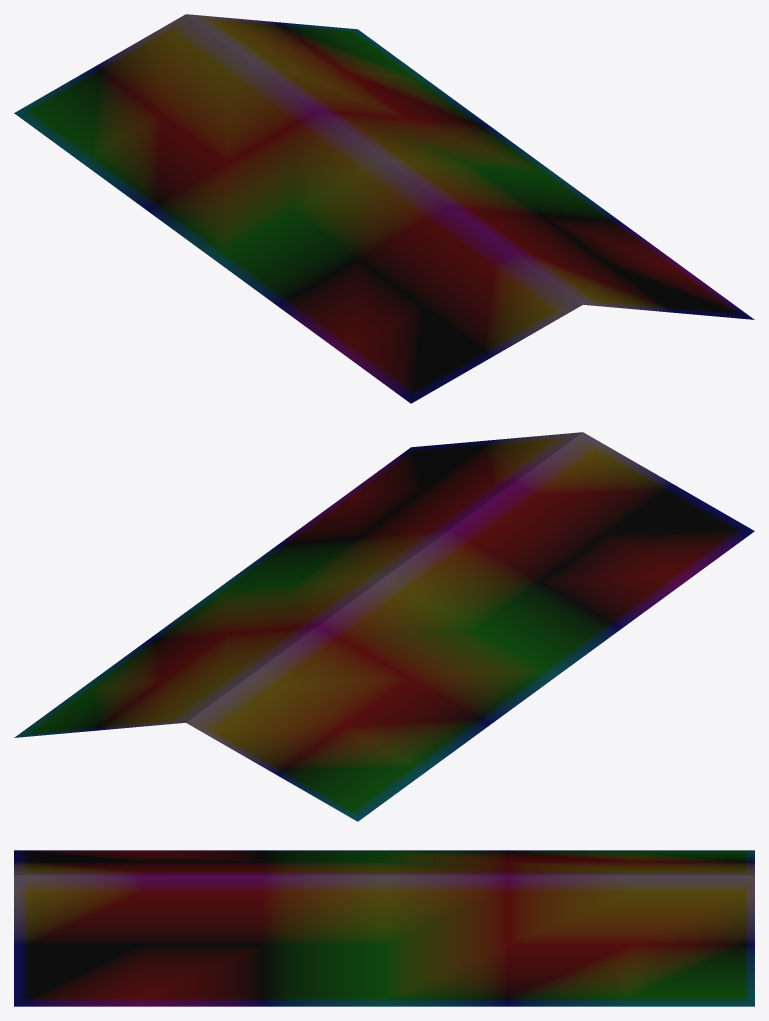
Rendered from Hanger_Ceiling.fbx.
3 views of the same model, one above another, from view 1: azimuth 30°, elevation 25°; view 2: azimuth 150°, elevation 25°; view 3: azimuth 270°, elevation 25° (orthographic). The views are drawn at different scales.
Visible parts, largest first — view 1: Hanger_Ceiling; view 2: Hanger_Ceiling; view 3: Hanger_Ceiling.
Part boxes in pixels (x1,y1,x2,y2): Hanger_Ceiling: [14, 14, 754, 403]; Hanger_Ceiling: [14, 432, 754, 821]; Hanger_Ceiling: [14, 850, 754, 1006].
Bounding box in the file's own units: 4000 × 635 × 8000.
